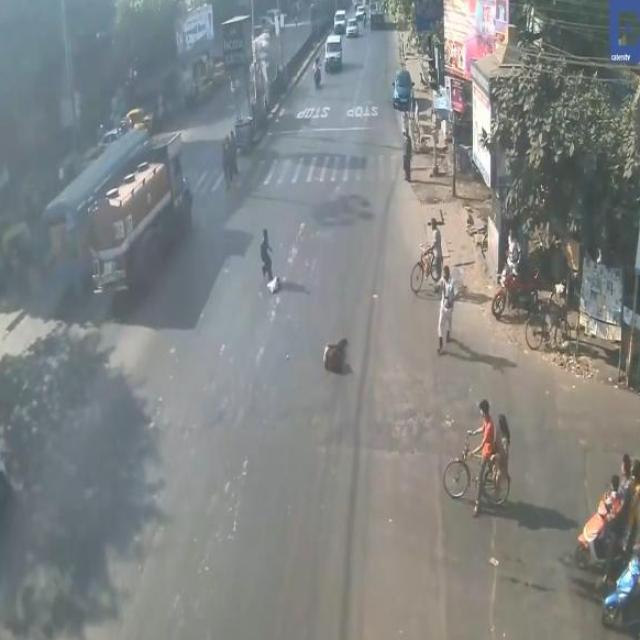accident: (318, 321, 354, 383)
